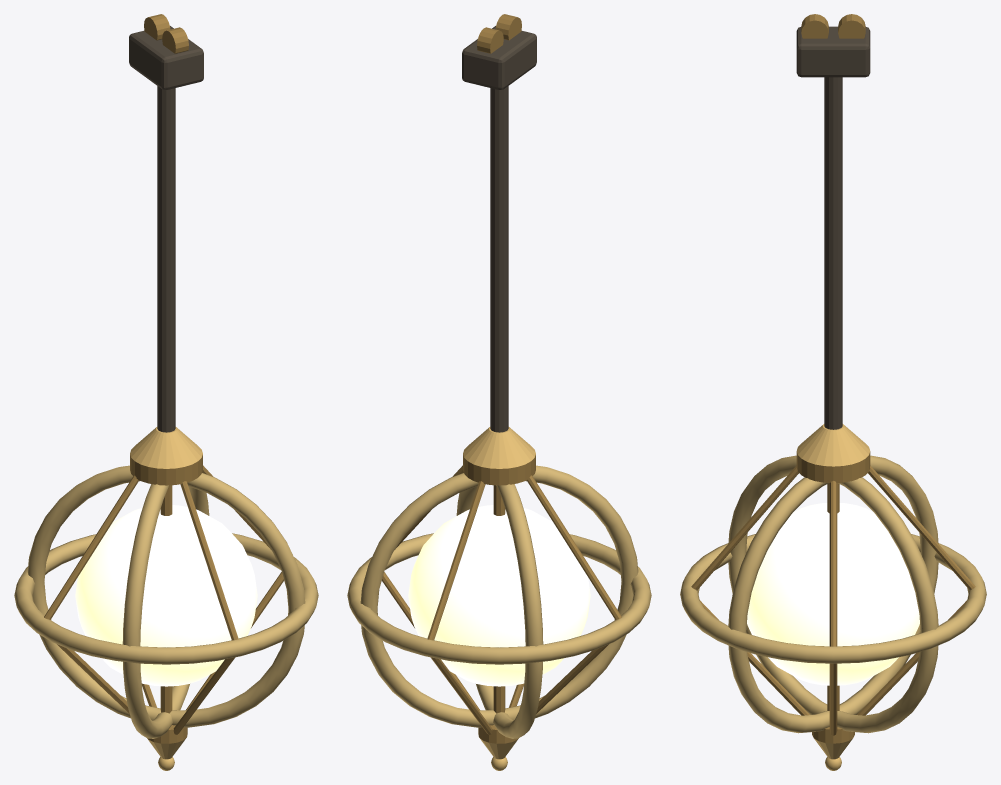
File: shade-lamp-v01.glb
3 views of the same model, side by side, from view 1: azimuth 30°, elevation 25°; view 2: azimuth 150°, elevation 25°; view 3: azimuth 270°, elevation 25° (orthographic).
Visible parts, largest first — view 1: Shadow gold 1, Shadow lamp glow 0, Shadow bronze dark 4, Shadow brass 2, Shadow brass light 3; view 2: Shadow gold 1, Shadow lamp glow 0, Shadow bronze dark 4, Shadow brass 2, Shadow brass light 3; view 3: Shadow gold 1, Shadow lamp glow 0, Shadow bronze dark 4, Shadow brass 2, Shadow brass light 3.
Boxes of the visible parts, <box> form: Shadow gold 1: <box>14,465,318,738</box>; Shadow lamp glow 0: <box>75,505,257,686</box>; Shadow bronze dark 4: <box>129,26,203,432</box>; Shadow brass 2: <box>44,14,283,743</box>; Shadow brass light 3: <box>130,427,202,770</box>; Shadow gold 1: <box>347,465,651,738</box>; Shadow lamp glow 0: <box>408,505,590,686</box>; Shadow bronze dark 4: <box>462,26,536,432</box>; Shadow brass 2: <box>382,14,621,743</box>; Shadow brass light 3: <box>463,427,535,770</box>; Shadow gold 1: <box>680,455,986,733</box>; Shadow lamp glow 0: <box>747,503,919,685</box>; Shadow bronze dark 4: <box>796,26,870,429</box>; Shadow brass 2: <box>691,14,975,743</box>; Shadow brass light 3: <box>797,424,869,770</box>.
Size of the model in its own units: 1 by 2.71 by 1.
